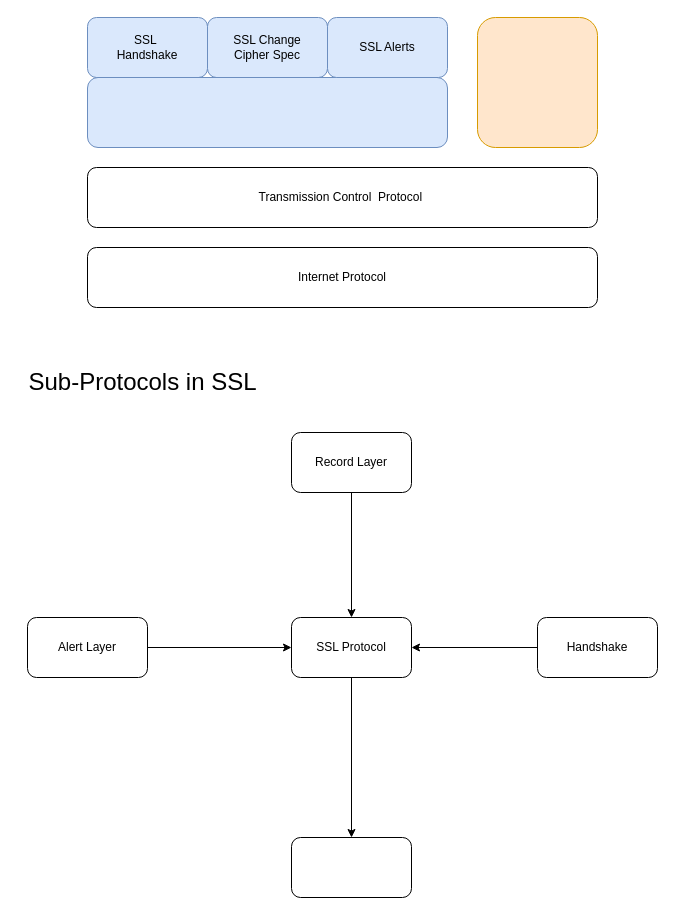
The diagram is 675 pixels wide and 915 high, and some of its shapes have lost their labels. The shapes that lost their labels are listed below. From the top down, each one's box as (x1, y1, x2, y2) in pixels, then its label:
(476, 16, 598, 148): HTTP
(86, 76, 448, 148): SSL Record Layer Protocol
(290, 836, 412, 898): Change Cipher Spec
